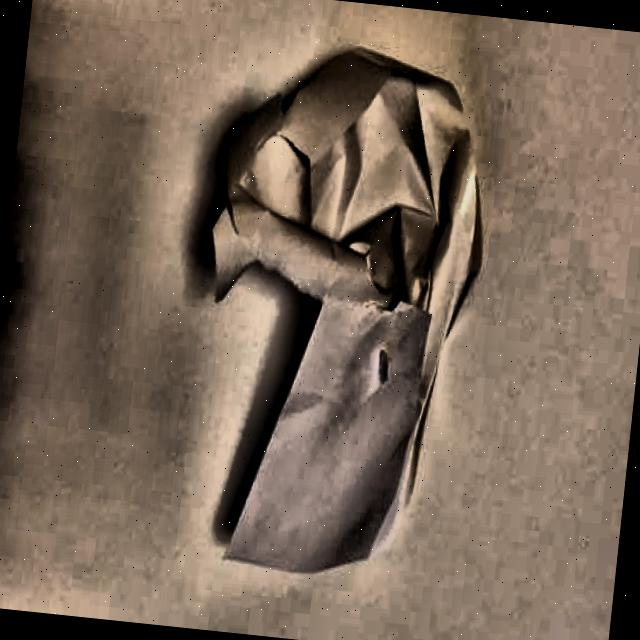paper: (176, 37, 501, 586)
